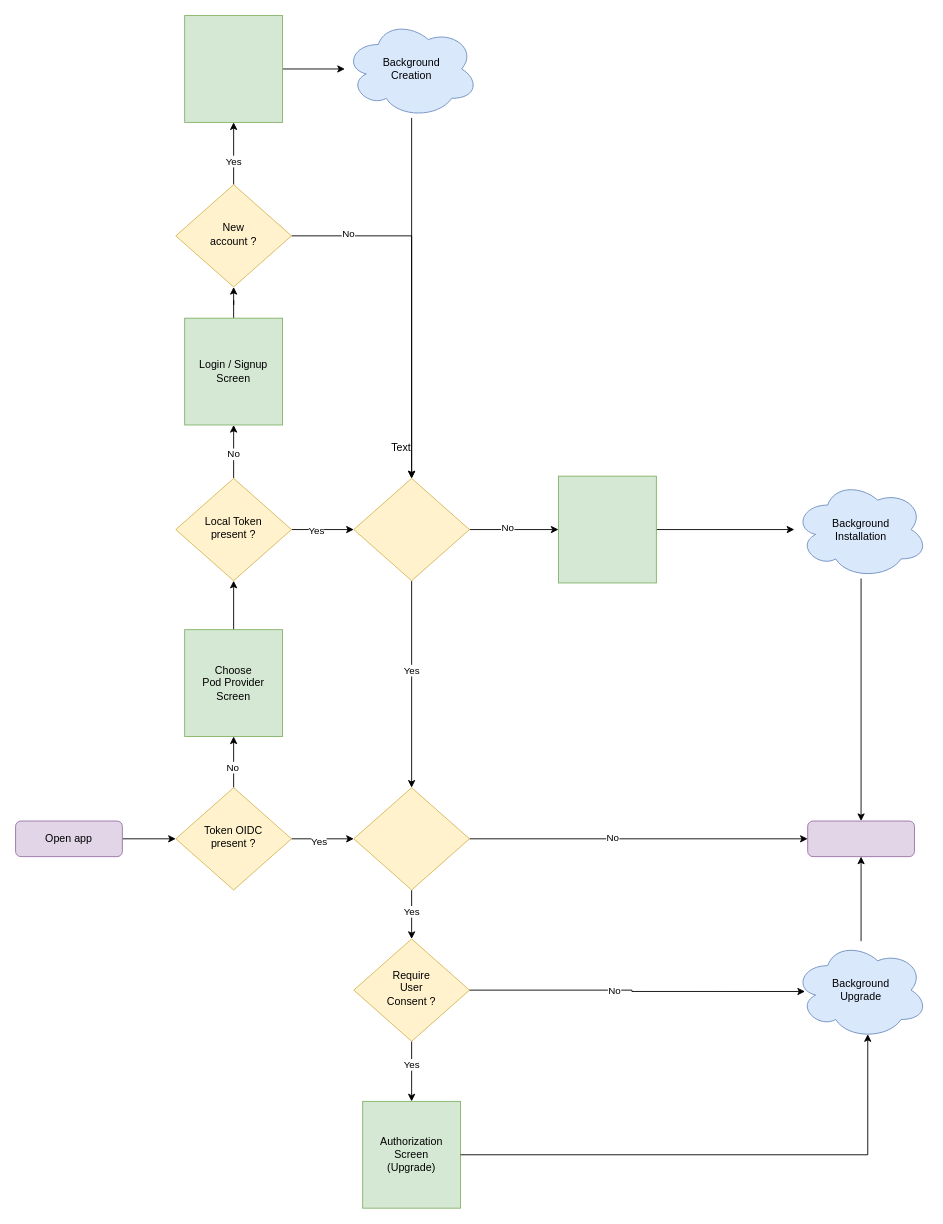
The diagram is 943 pixels wide and 1224 high, and some of its shapes have lost their labels. Each missing label, with the box of its shape:
Access app: (807, 820, 914, 857)
Access Needs Changed ?: (353, 787, 469, 890)
App installed on Pod ?: (353, 477, 469, 581)
Authorization Screen (Install): (558, 475, 656, 583)
Profile Creation Screen: (184, 15, 283, 122)
